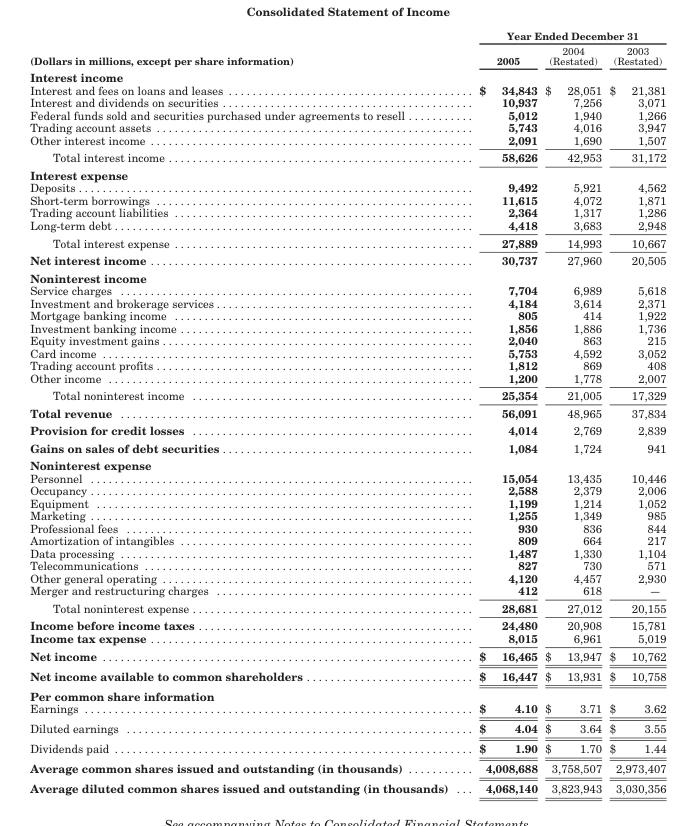table: (29, 28, 665, 795)
table column: (29, 28, 462, 795), (462, 28, 540, 795), (540, 28, 604, 795), (604, 28, 665, 795)
table column header: (29, 28, 665, 68)
table projected row header: (29, 685, 665, 701), (29, 68, 665, 83), (29, 165, 665, 180), (29, 268, 665, 283), (29, 456, 665, 471)
table row: (29, 42, 665, 68), (29, 717, 665, 738), (29, 665, 665, 685), (29, 738, 665, 758), (29, 758, 665, 778), (29, 646, 665, 665), (29, 233, 665, 251), (29, 403, 665, 421), (29, 438, 665, 456), (29, 598, 665, 616), (29, 148, 665, 165), (29, 251, 665, 268), (29, 386, 665, 403), (29, 421, 665, 438), (29, 778, 665, 795), (29, 685, 665, 701), (29, 701, 665, 717), (29, 68, 665, 83), (29, 133, 665, 148), (29, 165, 665, 180), (29, 218, 665, 233), (29, 268, 665, 283), (29, 371, 665, 386), (29, 456, 665, 471), (29, 583, 665, 598), (29, 616, 665, 631), (29, 631, 665, 646), (29, 28, 665, 42), (29, 95, 665, 108), (29, 120, 665, 133), (29, 180, 665, 193), (29, 205, 665, 218), (29, 283, 665, 296), (29, 308, 665, 321), (29, 333, 665, 346), (29, 358, 665, 371), (29, 483, 665, 496), (29, 508, 665, 521), (29, 533, 665, 546), (29, 558, 665, 571), (29, 83, 665, 95), (29, 108, 665, 120), (29, 193, 665, 205), (29, 296, 665, 308), (29, 321, 665, 333), (29, 346, 665, 358), (29, 471, 665, 483), (29, 496, 665, 508), (29, 521, 665, 533), (29, 546, 665, 558), (29, 571, 665, 583)
table spanning cell: (29, 28, 462, 68), (462, 28, 665, 42)
